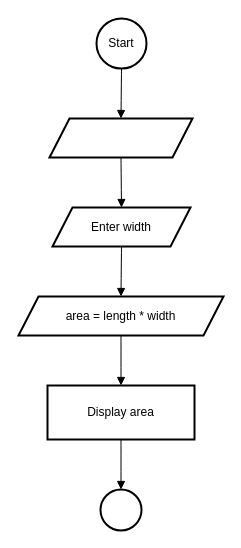
Image size: 241x548. Some labels were removed from this diagram. Each missing label, with the centre of its shape:
"End" belongs at pixel 120 509.
"Enter length" belongs at pixel 120 137.
